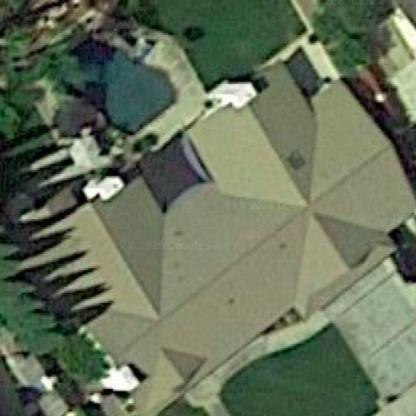swimming_pool: (43, 24, 188, 139)
